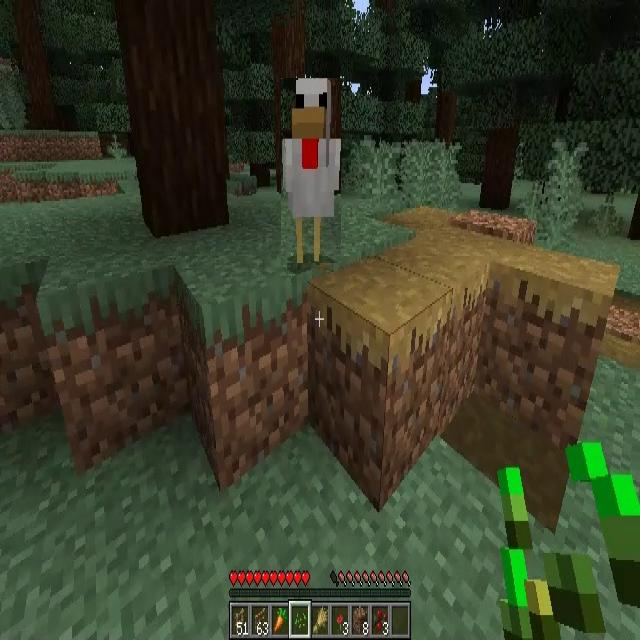duck: (282, 78, 342, 263)
